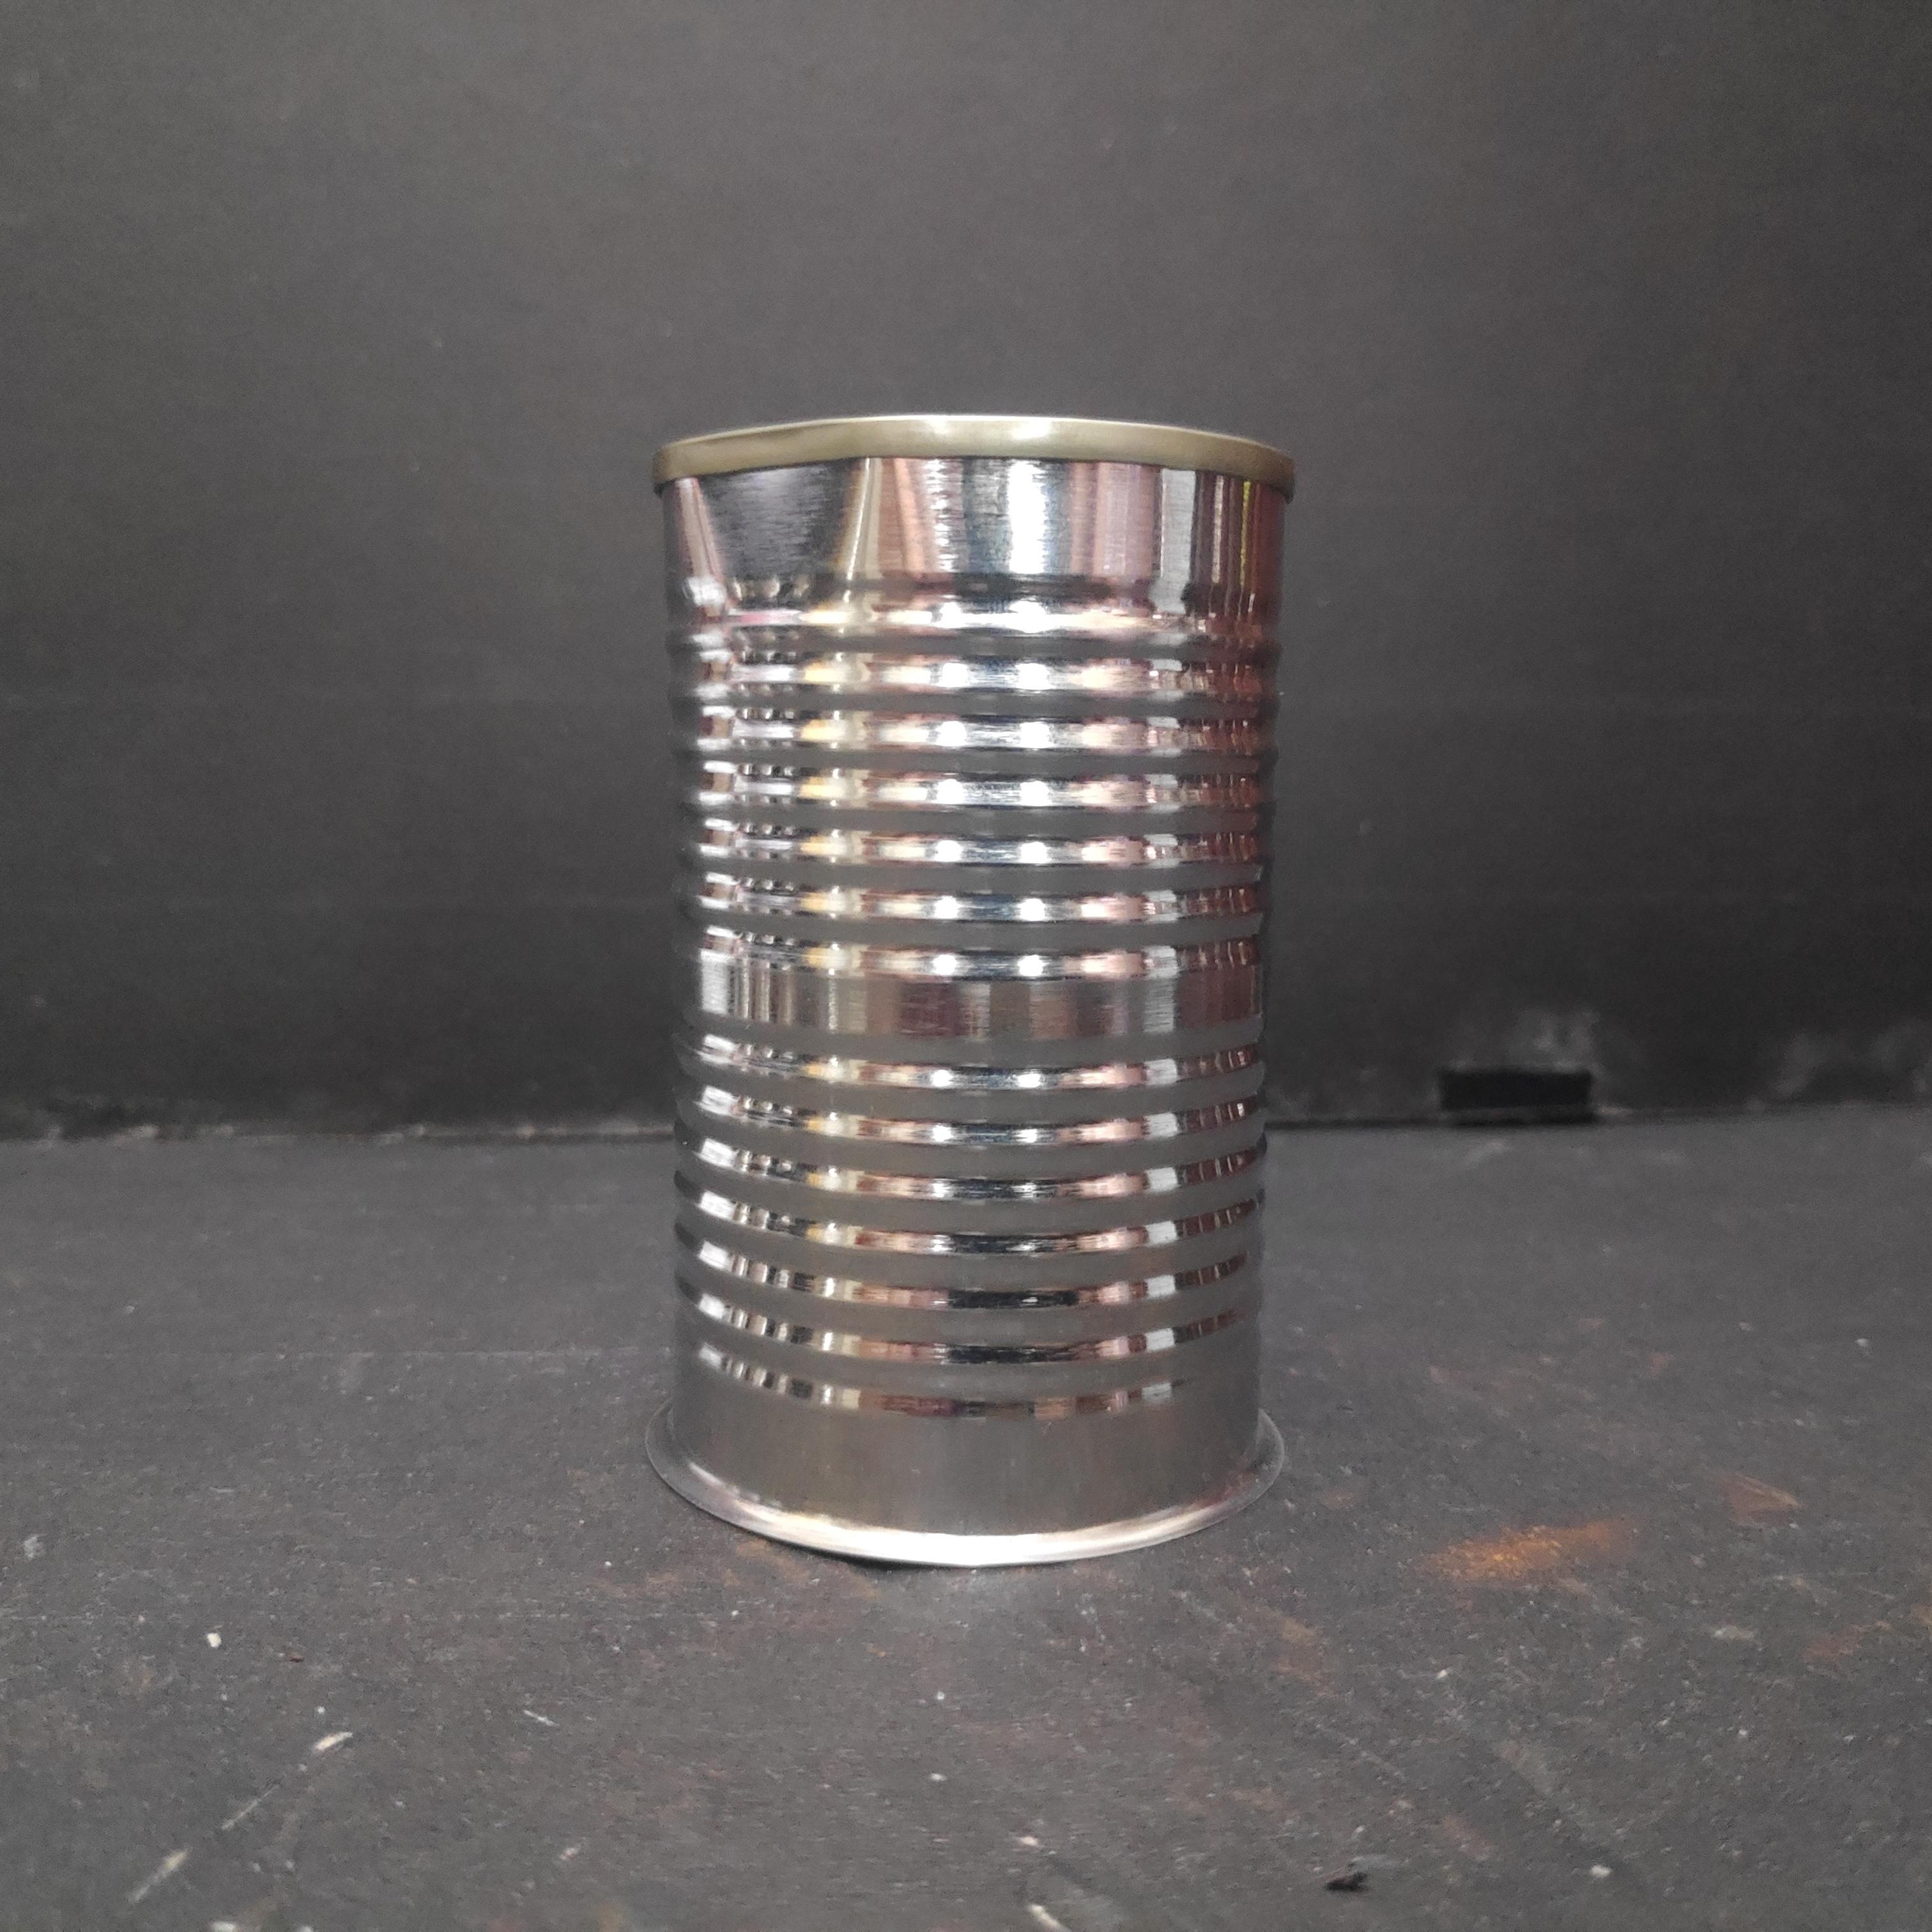Minor Defect: (644, 410, 1307, 1578)
